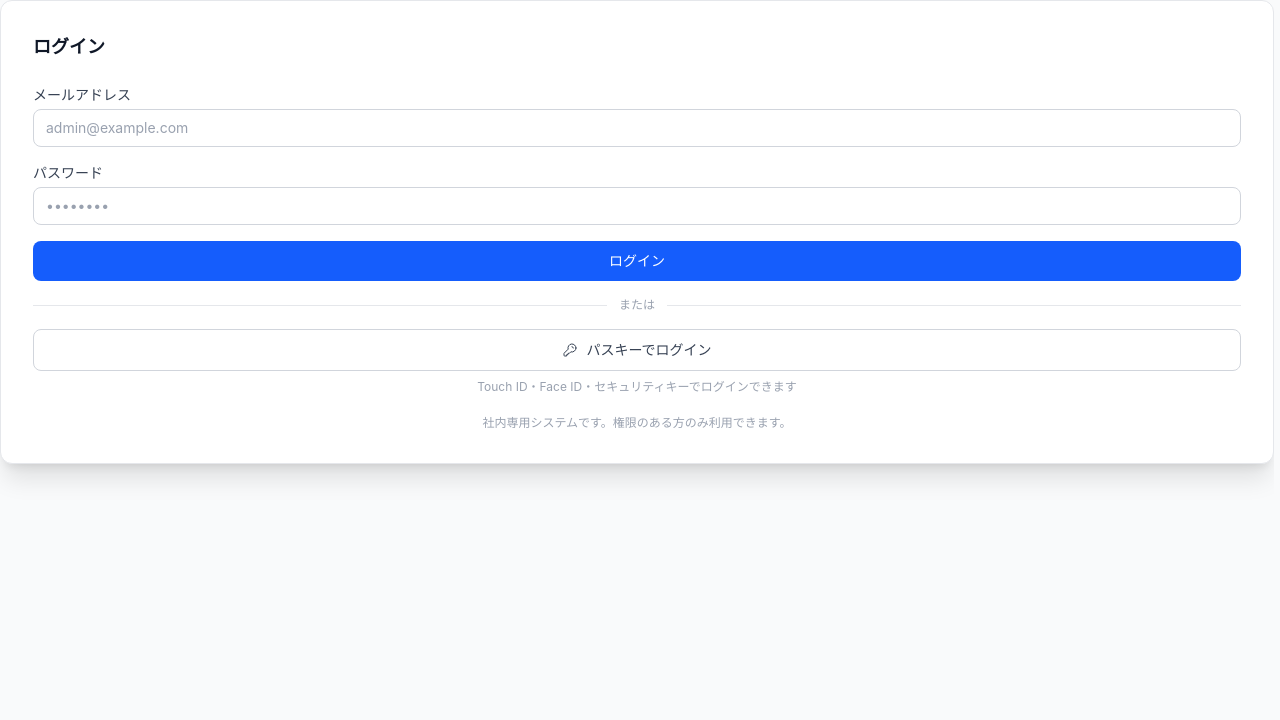
Test: LoginForm Component › ネットワークエラーの場合、汎用エラーメッセージが表示されること
The image size is (1280, 720).
Type "test@example.com" into the field labelled "メールアドレス" at point(637, 128), box [33,109,1241,147]
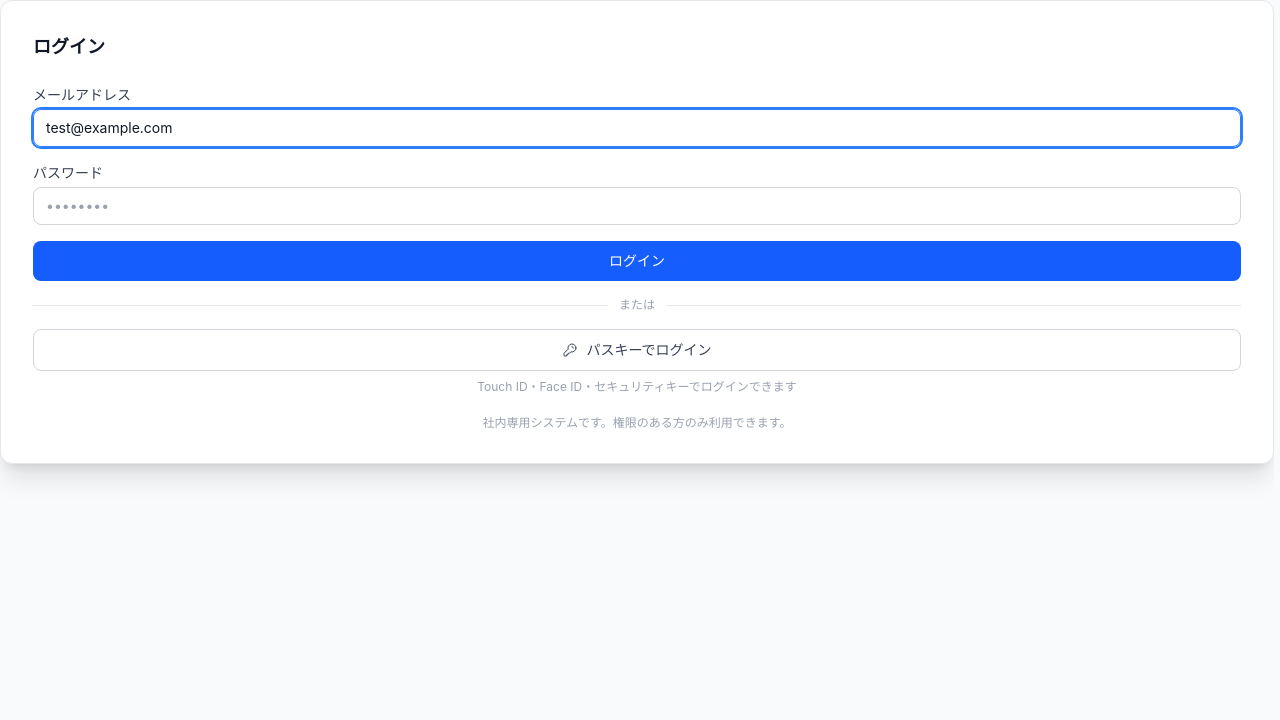
Type "pass" into the password field labelled "パスワード" at point(637, 206), box [33,187,1241,225]
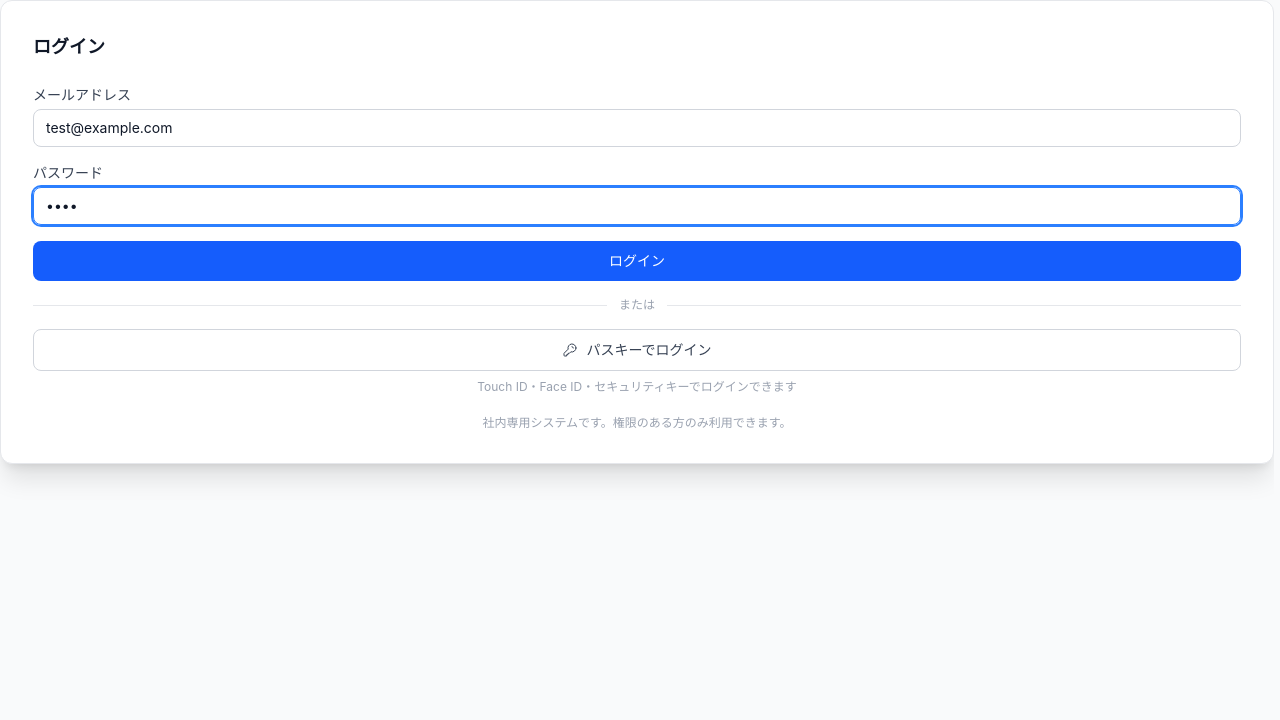
Click the button "ログイン" at point(637, 261), box [33,241,1241,281]
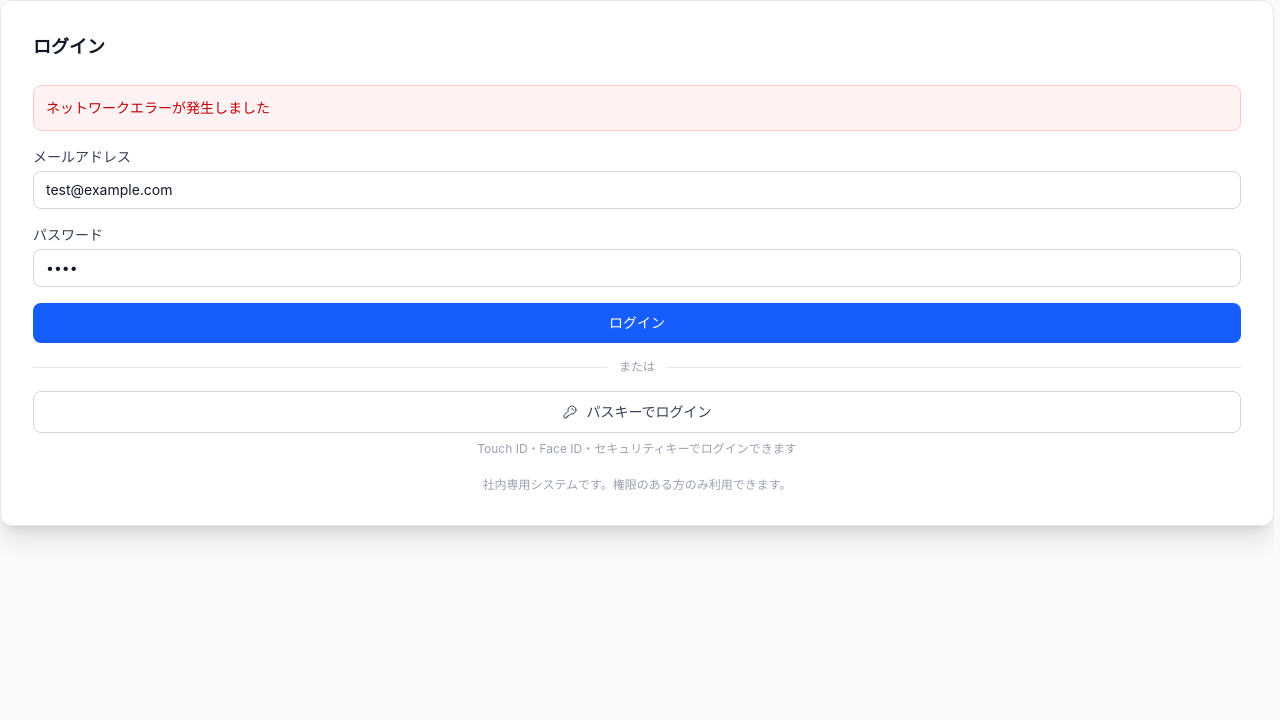
expect the text "ネットワークエラーが発生しました" is shown: met, box [33,85,1241,131]
